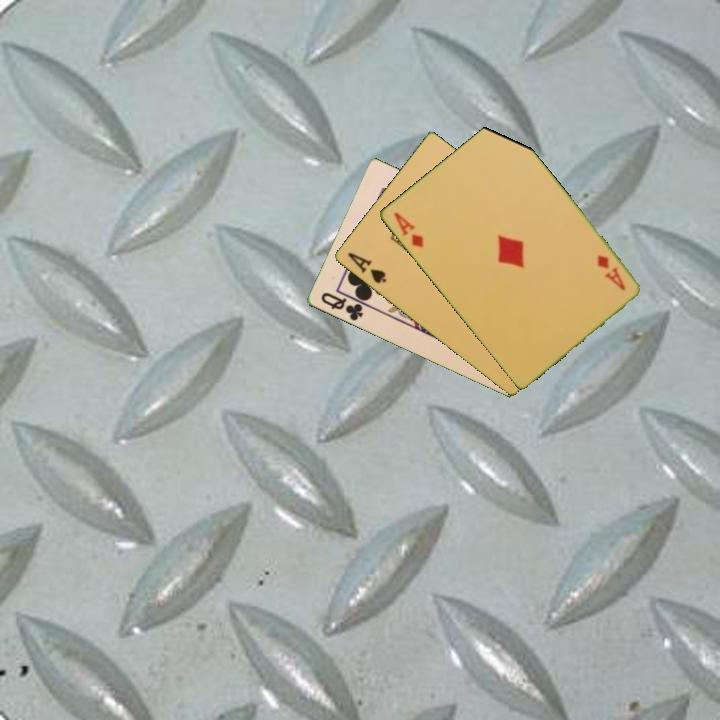Ad: (593, 251, 628, 294), (390, 209, 426, 250)
As: (343, 248, 389, 286)
Qc: (317, 289, 366, 324)
